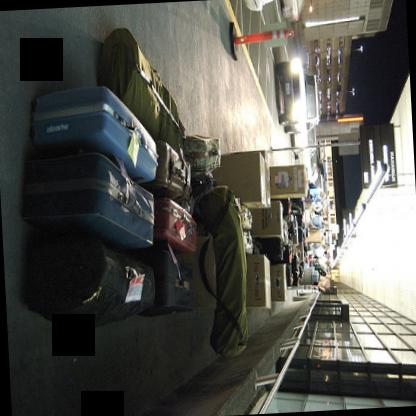backpack: (193, 180, 248, 354)
suitcase: (22, 152, 152, 247), (18, 233, 152, 325), (31, 88, 157, 184), (145, 249, 191, 319), (140, 139, 189, 203), (152, 196, 195, 254), (182, 135, 219, 172)
